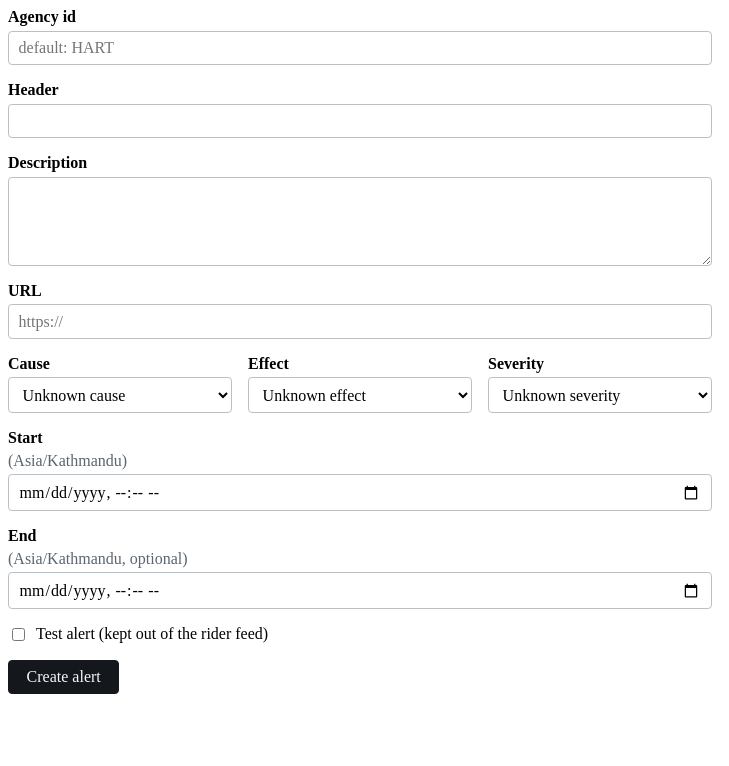
Test: AlertForm region rendering › shows the rejection message from onsubmit in an alert banner
The image size is (729, 766).
Type "Bridge out" into the field labelled "Header".
click(360, 121); type("Bridge out")  # box [8,104,712,138]
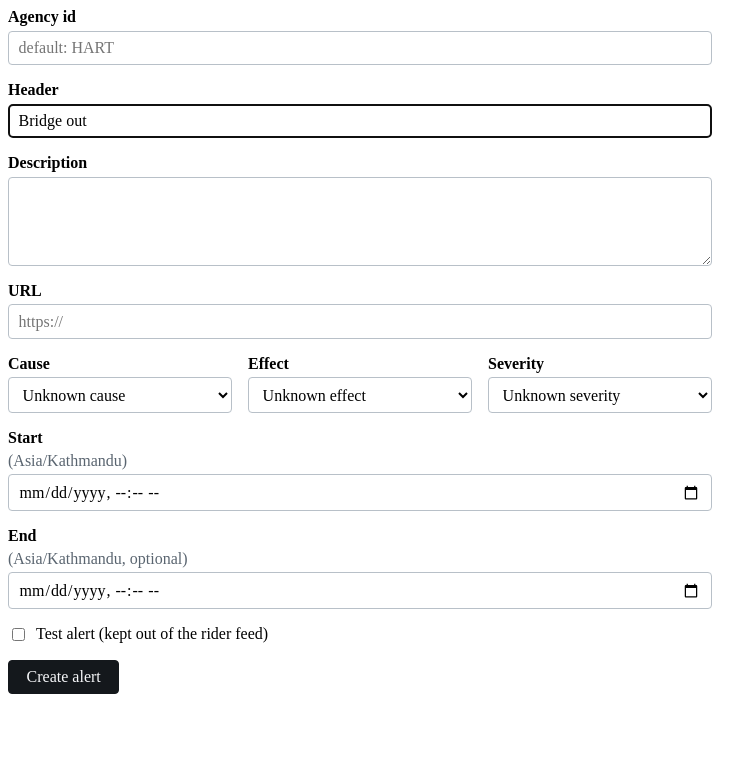
Type "2026-08-16T02:45" into the field labelled "Start (Asia/Kathmandu)".
click(360, 493); type("2026-08-16T02:45")  # box [8,474,712,511]
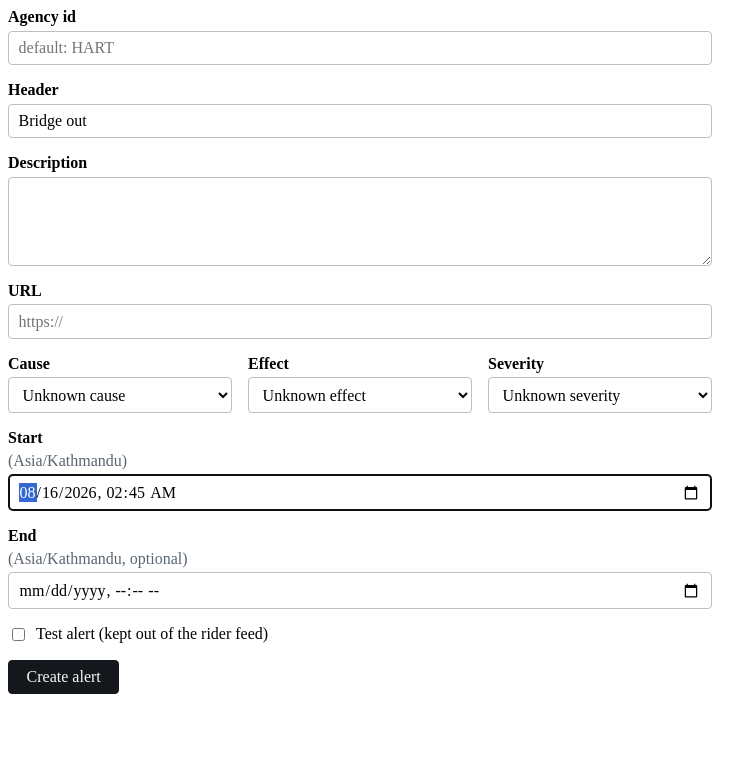
Click the button "Create alert".
click(64, 677)  # box [8,660,119,694]
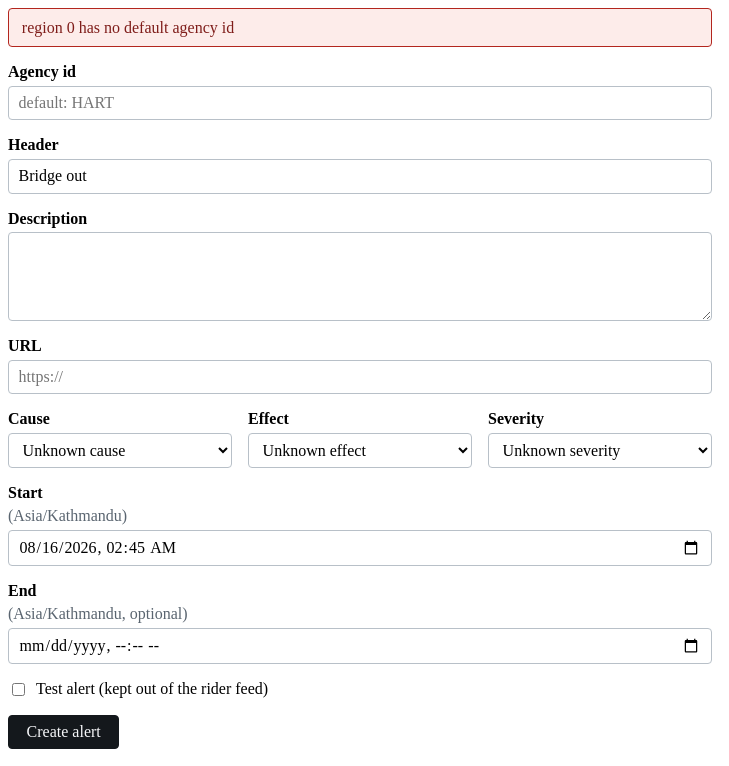
Now the message reads "region 0 has no default agency id", box [22,19,234,36]
